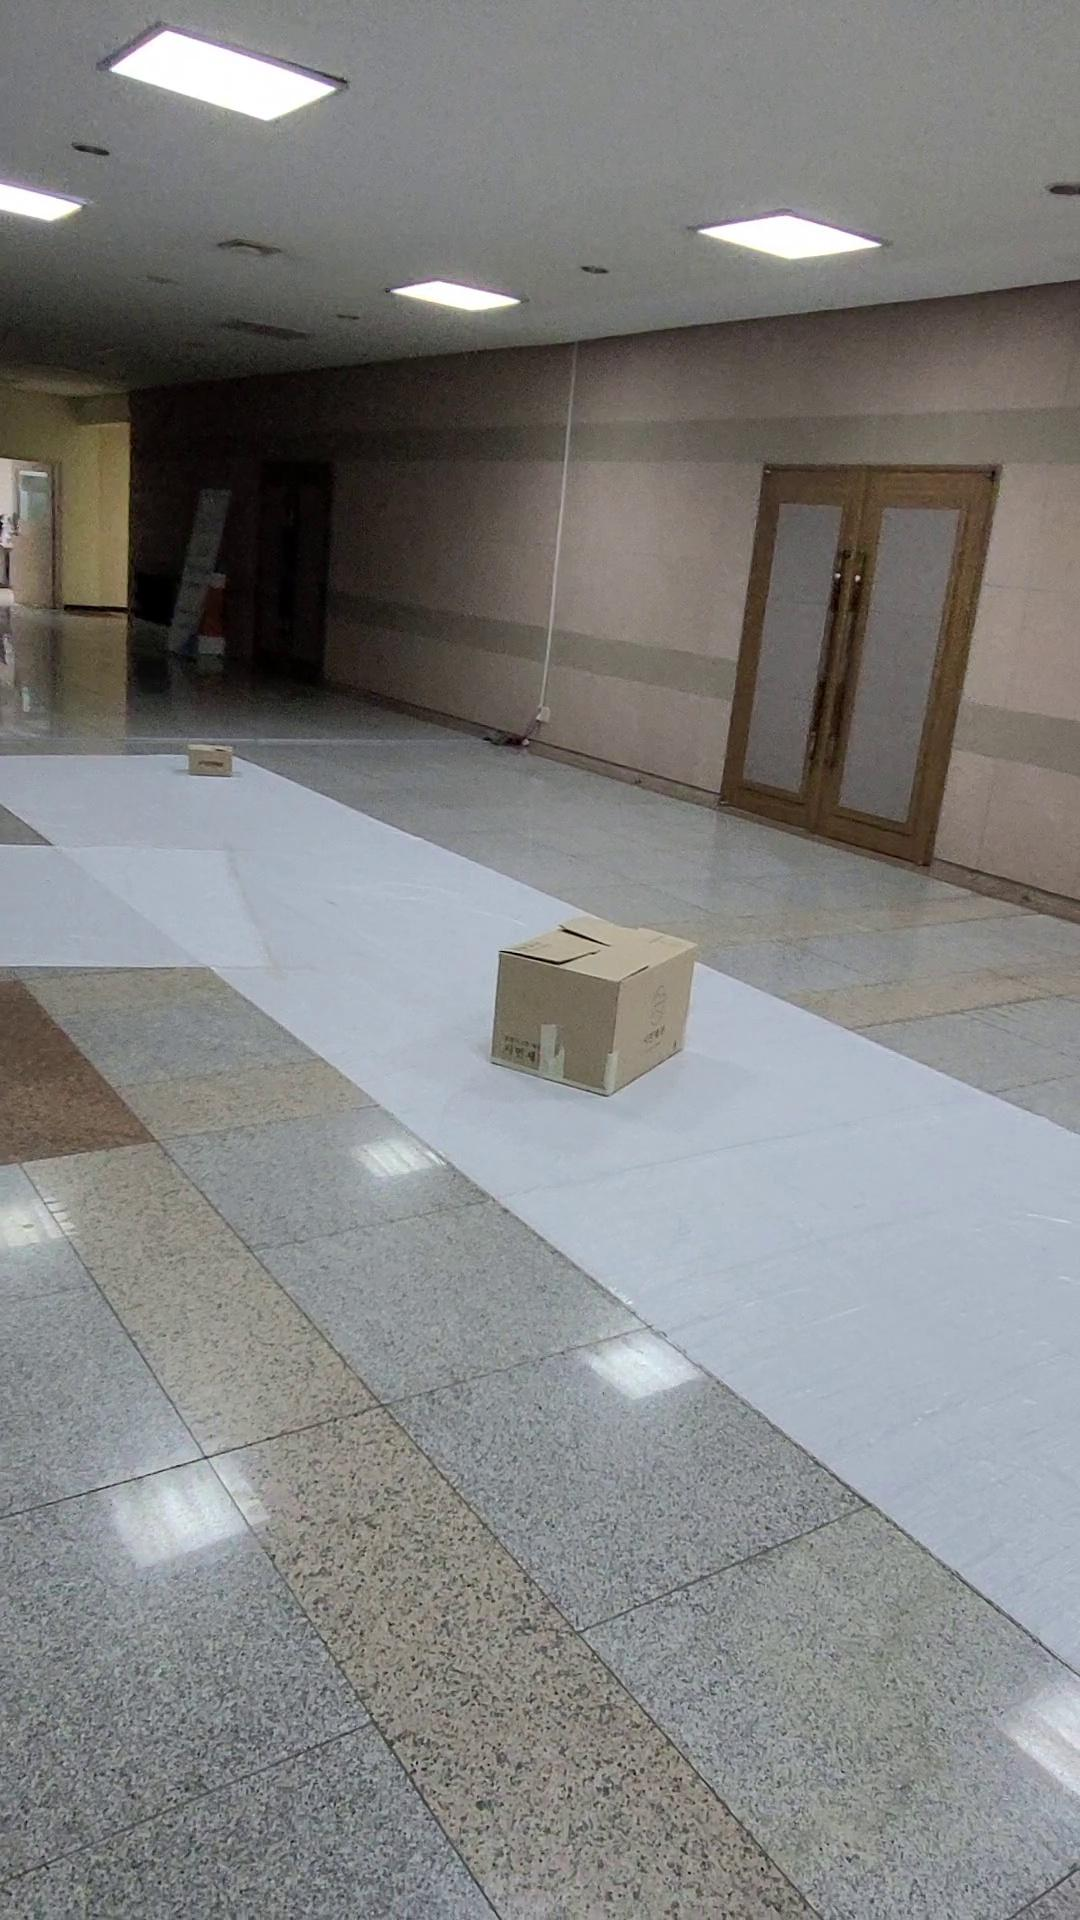Box: (446, 895, 752, 1137), (167, 723, 252, 798)
